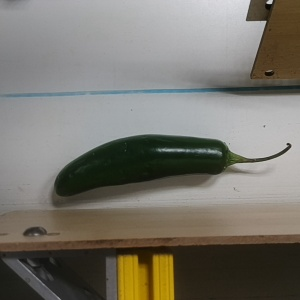Cut Point: (208, 138, 243, 174)
